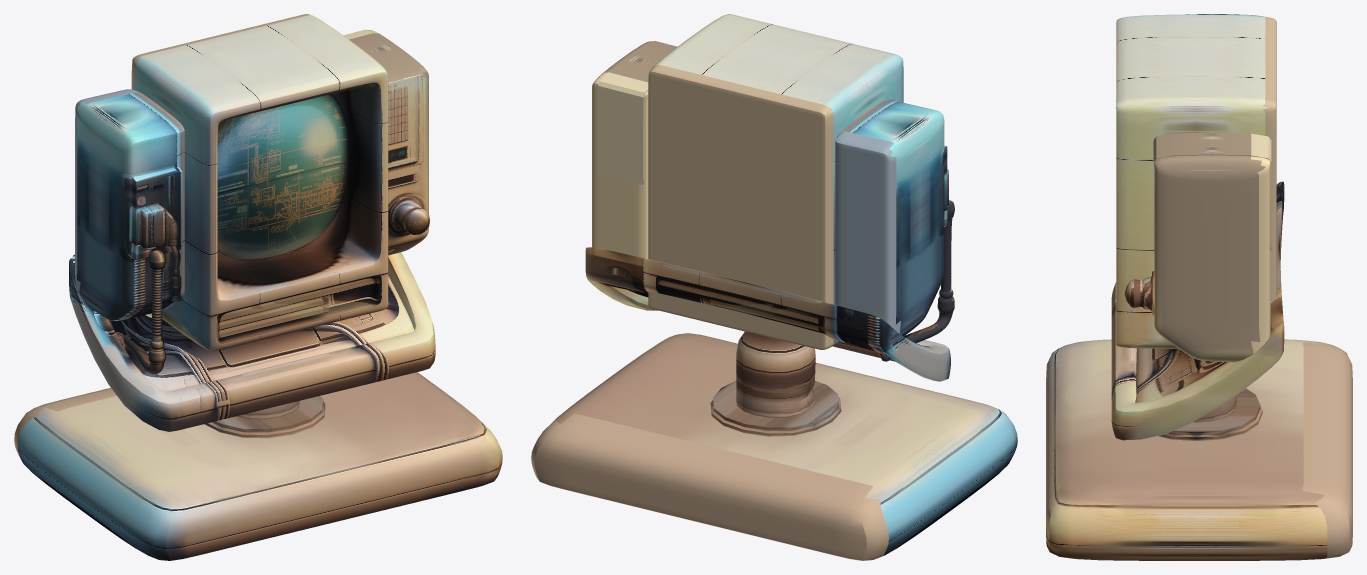
The model's file is computer.gltf.
3 views of the same model, side by side, from view 1: azimuth 30°, elevation 25°; view 2: azimuth 150°, elevation 25°; view 3: azimuth 270°, elevation 25° (orthographic).
Parts seen in each view (by area): view 1: kaedim_mesh_0_Mesh, kaedim_mesh_0_Mesh.002, kaedim_mesh_0_Mesh.017, kaedim_mesh_0_Mesh.001, kaedim_mesh_0_Mesh.004, kaedim_mesh_0_Mesh.008, kaedim_mesh_0_Mesh.005, kaedim_mesh_0_Mesh.009, kaedim_mesh_0_Mesh.011, kaedim_mesh_0_Mesh.014, kaedim_mesh_0_Mesh.012, kaedim_mesh_0_Mesh.007 (+3 smaller); view 2: kaedim_mesh_0_Mesh.002, kaedim_mesh_0_Mesh, kaedim_mesh_0_Mesh.017, kaedim_mesh_0_Mesh.001, kaedim_mesh_0_Mesh.009, kaedim_mesh_0_Mesh.008, kaedim_mesh_0_Mesh.005, kaedim_mesh_0_Mesh.014; view 3: kaedim_mesh_0_Mesh.002, kaedim_mesh_0_Mesh, kaedim_mesh_0_Mesh.005, kaedim_mesh_0_Mesh.001, kaedim_mesh_0_Mesh.008, kaedim_mesh_0_Mesh.004, kaedim_mesh_0_Mesh.009, kaedim_mesh_0_Mesh.007.
Part boxes in pixels (left/top/right/bottom): kaedim_mesh_0_Mesh: left=131, top=14, right=388, bottom=351; kaedim_mesh_0_Mesh.002: left=14, top=372, right=502, bottom=560; kaedim_mesh_0_Mesh.017: left=75, top=89, right=184, bottom=321; kaedim_mesh_0_Mesh.001: left=69, top=252, right=435, bottom=431; kaedim_mesh_0_Mesh.004: left=109, top=276, right=414, bottom=391; kaedim_mesh_0_Mesh.008: left=343, top=29, right=422, bottom=172; kaedim_mesh_0_Mesh.005: left=368, top=30, right=428, bottom=255; kaedim_mesh_0_Mesh.009: left=204, top=337, right=325, bottom=438; kaedim_mesh_0_Mesh.011: left=132, top=166, right=182, bottom=260; kaedim_mesh_0_Mesh.014: left=123, top=250, right=165, bottom=374; kaedim_mesh_0_Mesh.012: left=140, top=204, right=179, bottom=250; kaedim_mesh_0_Mesh.007: left=388, top=194, right=429, bottom=235; kaedim_mesh_0_Mesh.002: left=531, top=333, right=1017, bottom=560; kaedim_mesh_0_Mesh: left=648, top=14, right=903, bottom=349; kaedim_mesh_0_Mesh.017: left=835, top=100, right=944, bottom=336; kaedim_mesh_0_Mesh.001: left=585, top=247, right=950, bottom=381; kaedim_mesh_0_Mesh.009: left=710, top=331, right=841, bottom=436; kaedim_mesh_0_Mesh.008: left=598, top=41, right=677, bottom=184; kaedim_mesh_0_Mesh.005: left=592, top=41, right=652, bottom=258; kaedim_mesh_0_Mesh.014: left=881, top=200, right=954, bottom=361; kaedim_mesh_0_Mesh.002: left=1046, top=339, right=1352, bottom=560; kaedim_mesh_0_Mesh: left=1116, top=14, right=1276, bottom=348; kaedim_mesh_0_Mesh.005: left=1154, top=133, right=1270, bottom=361; kaedim_mesh_0_Mesh.001: left=1111, top=181, right=1284, bottom=440; kaedim_mesh_0_Mesh.008: left=1153, top=132, right=1271, bottom=251; kaedim_mesh_0_Mesh.004: left=1135, top=348, right=1226, bottom=402; kaedim_mesh_0_Mesh.009: left=1135, top=388, right=1262, bottom=440; kaedim_mesh_0_Mesh.007: left=1124, top=271, right=1154, bottom=316.
Bounding box in the file's own units: 1.84 × 2 × 1.33.
18 materials, 1 textured.
